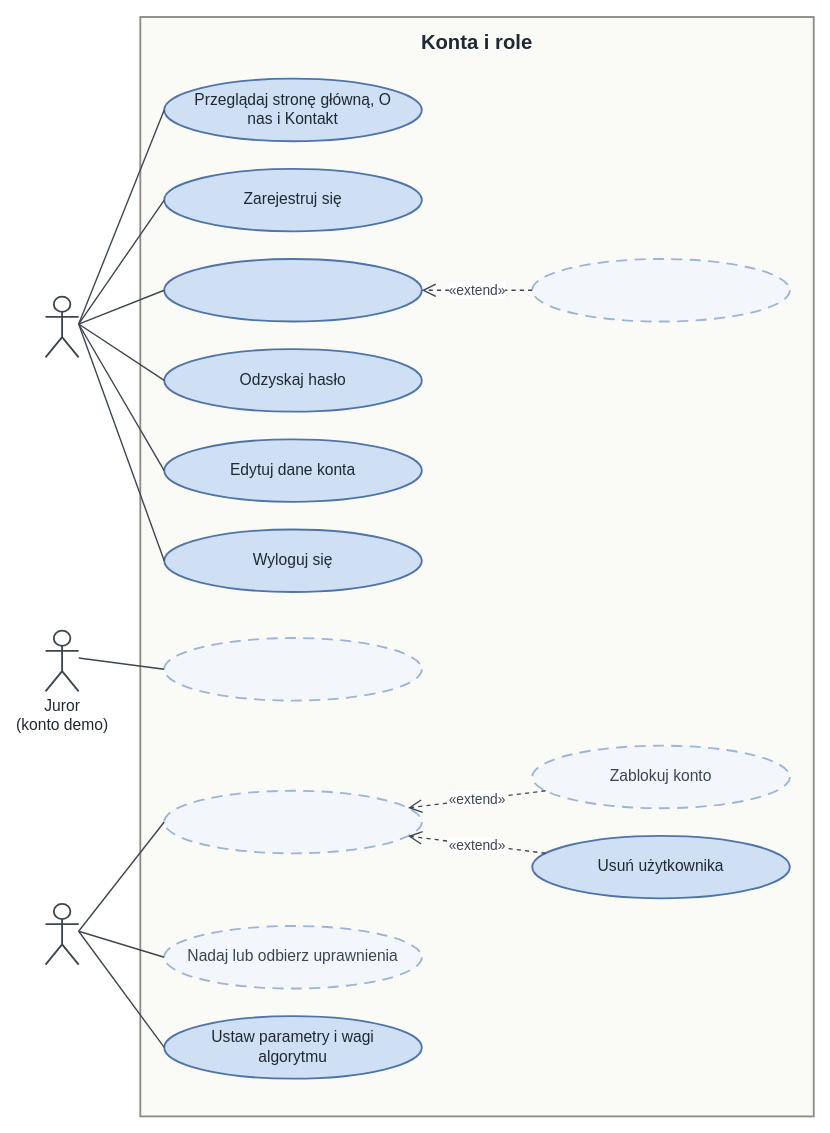
The diagram is 830 pixels wide and 1133 high, and some of its shapes have lost their labels. The shapes that lost their labels are listed below. From the top down, each one's centre as x and y in pixels, then its label:
point 292,290: Zaloguj się
point 660,290: Zaloguj się przez Google lub Discord
point 61,326: Użytkownik
point 292,669: Zaloguj się na konto demo
point 292,821: Przeglądaj użytkowników
point 61,934: Administrator systemu
